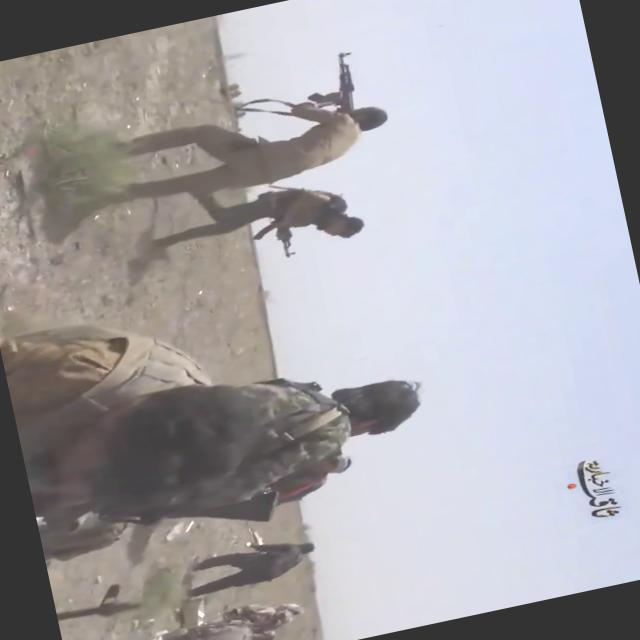long weapon: (245, 188, 310, 278), (302, 47, 362, 119)
